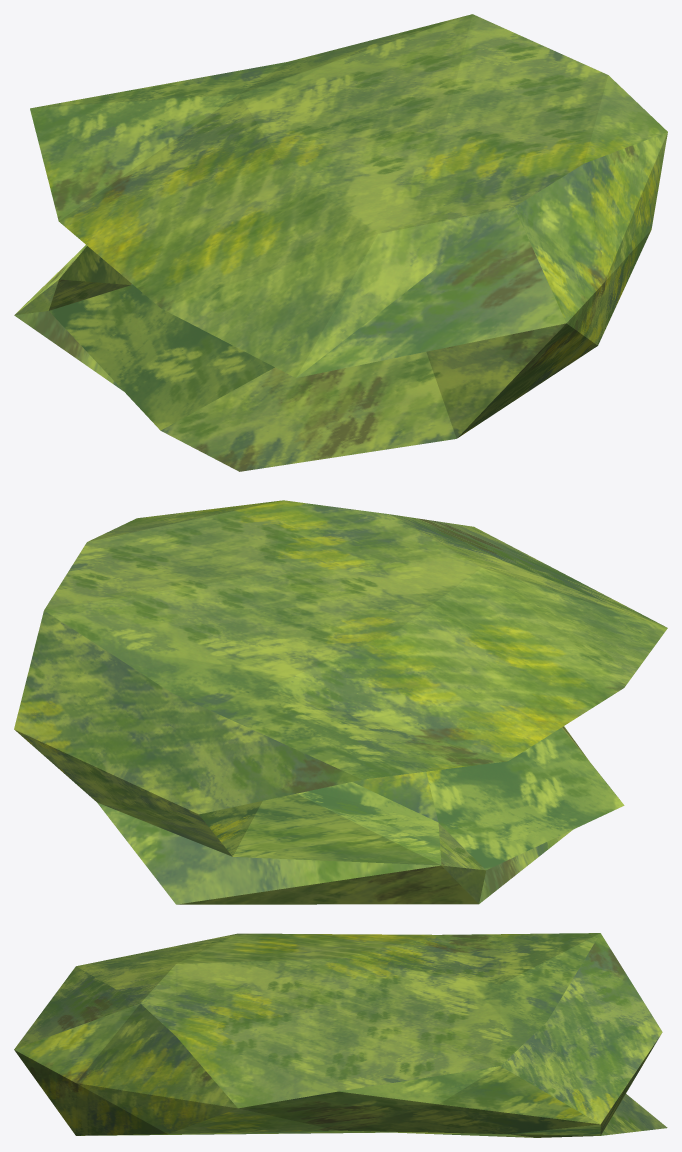
File: foliage3.glb
The picture shows the model from 3 angles, top to bottom: view 1: azimuth 30°, elevation 25°; view 2: azimuth 150°, elevation 25°; view 3: azimuth 270°, elevation 25°; orthographic projection. The views are drawn at different scales.
Visible parts, largest first — view 1: foliage3; view 2: foliage3; view 3: foliage3.
Boxes of the visible parts, <box> form: foliage3: <box>14,14,667,471</box>; foliage3: <box>14,500,667,904</box>; foliage3: <box>14,933,667,1137</box>.
Bounding box in the file's own units: 14.18 × 6 × 17.61.
Materials: 1 (1 with a texture image).
